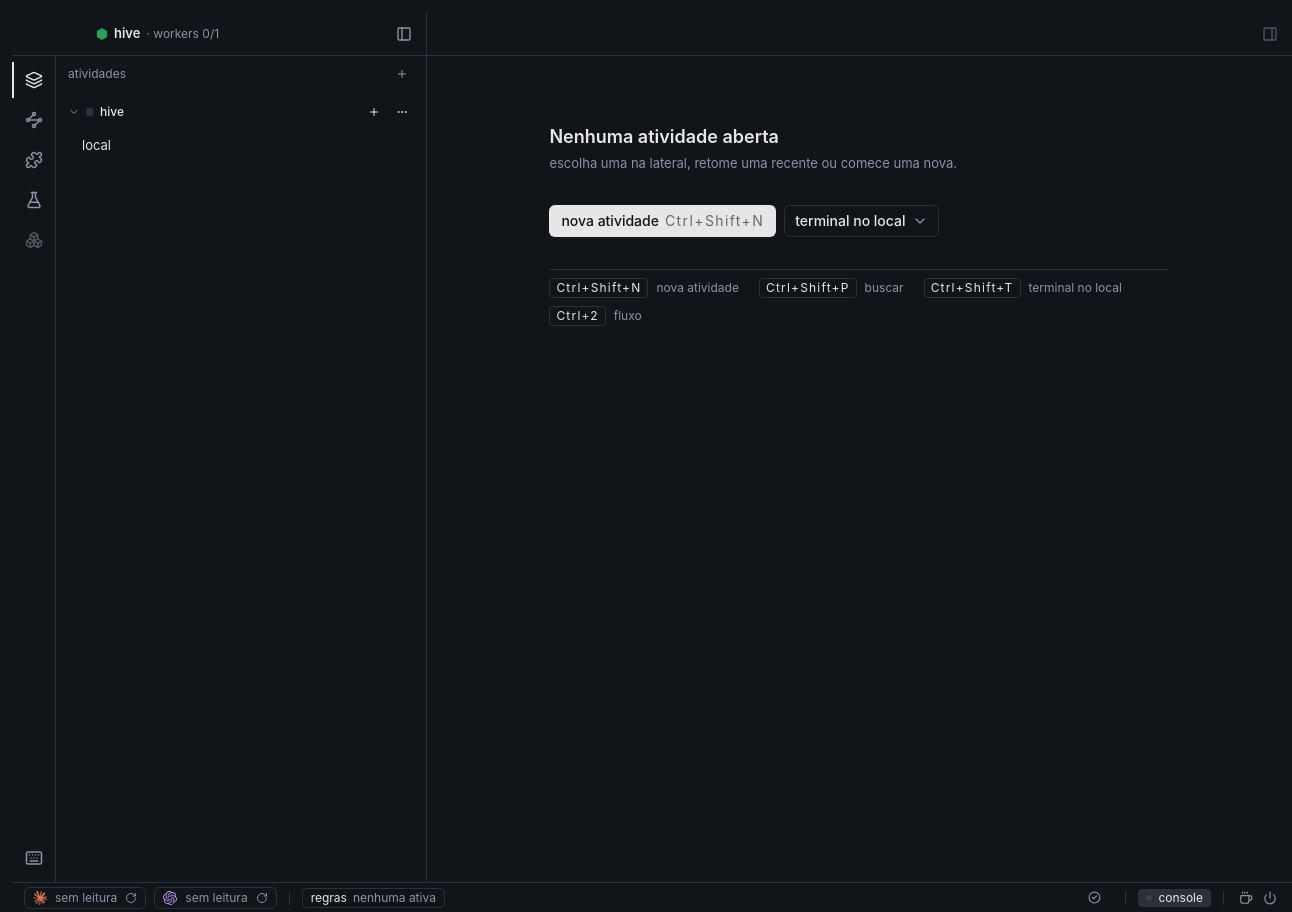
Test: a repository's row opens the issue page under the repository header; its issues tab returns to the list (#757)
Click the button named "fluxo" at (34, 120), box [12,102,56,138]
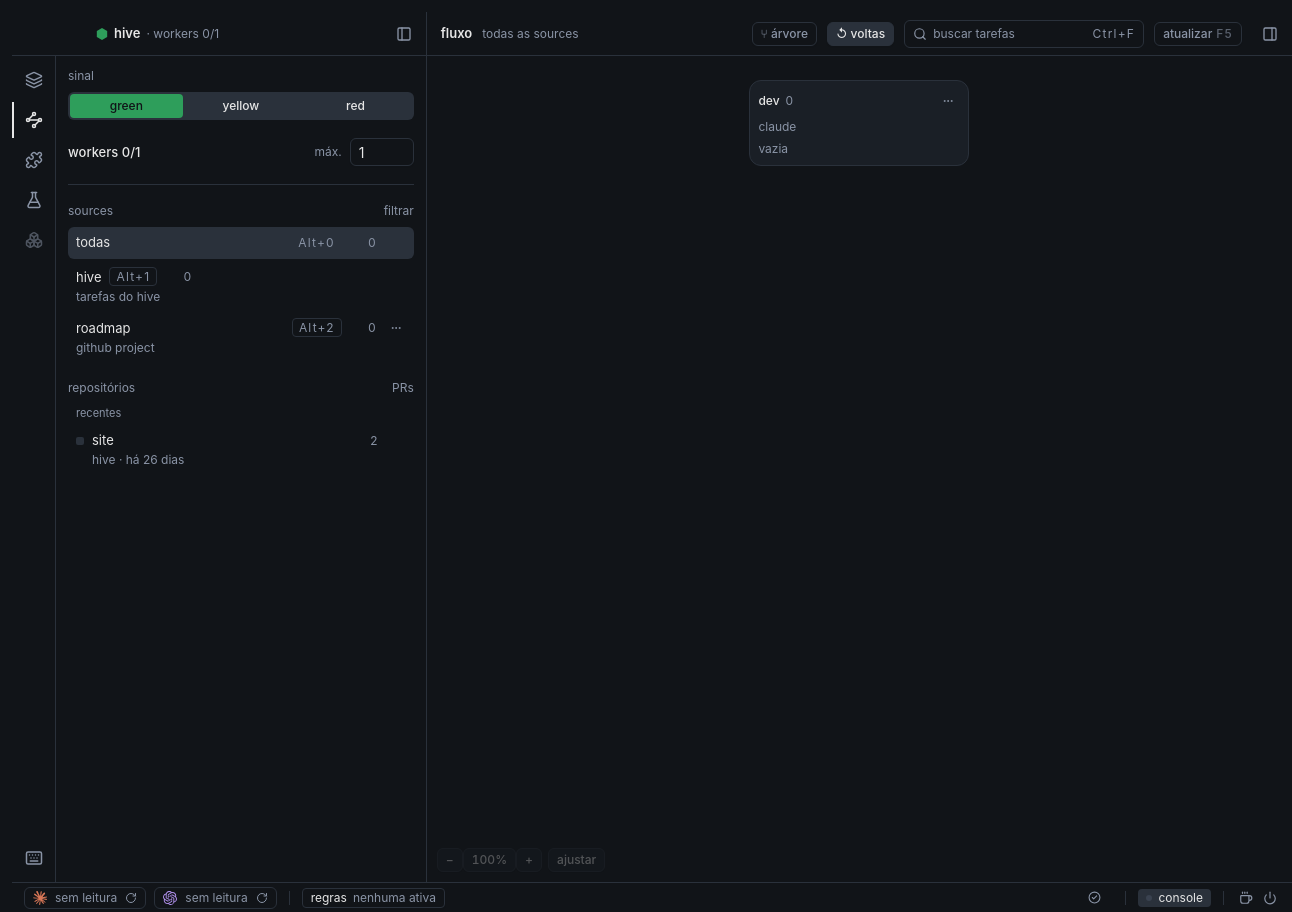
Click the button "site 2 hive · há 26 dias" at (138, 459), box [68,425,414,474]
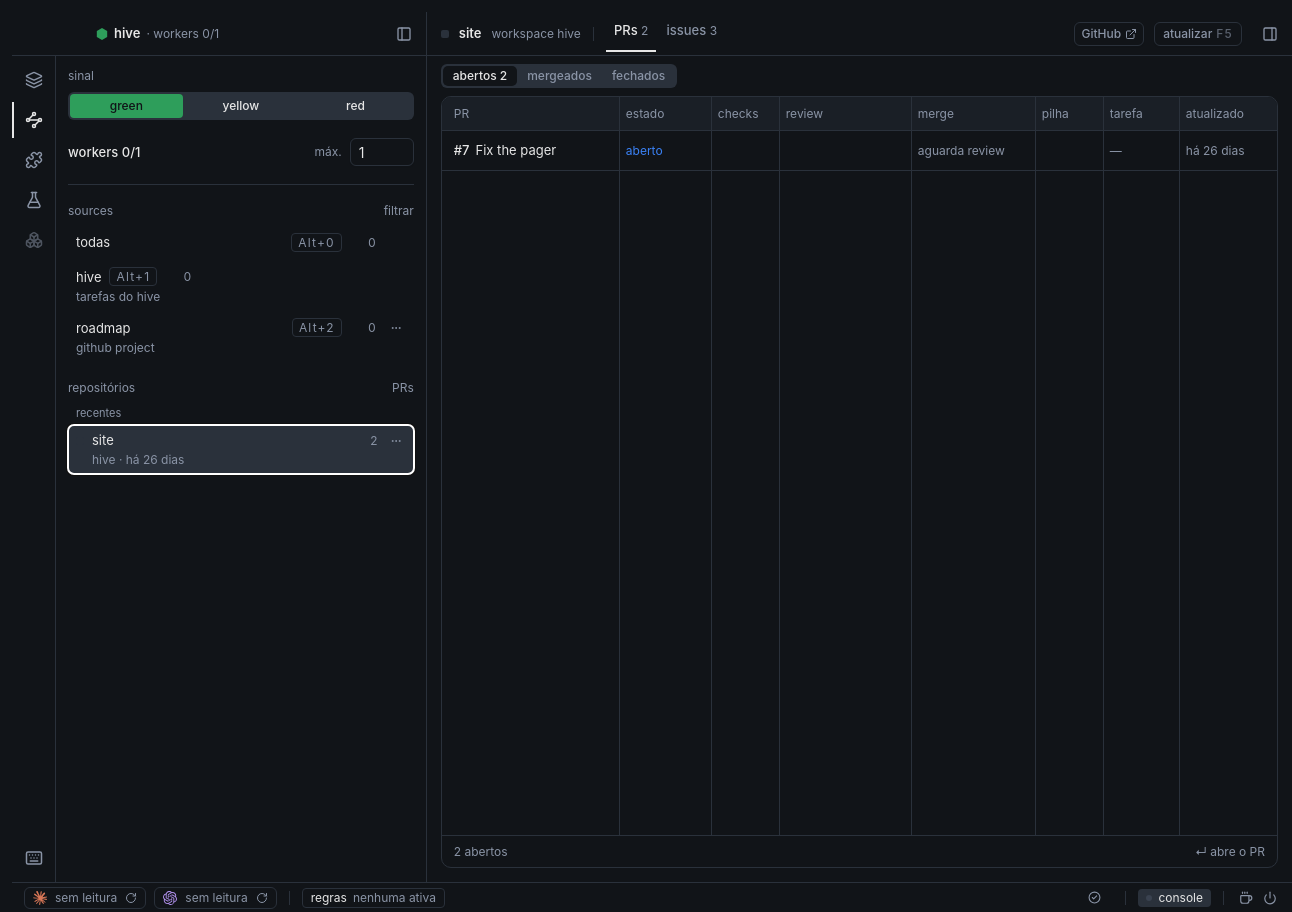
Click the tab "issues 3" at (692, 32), box [658,12,725,52]
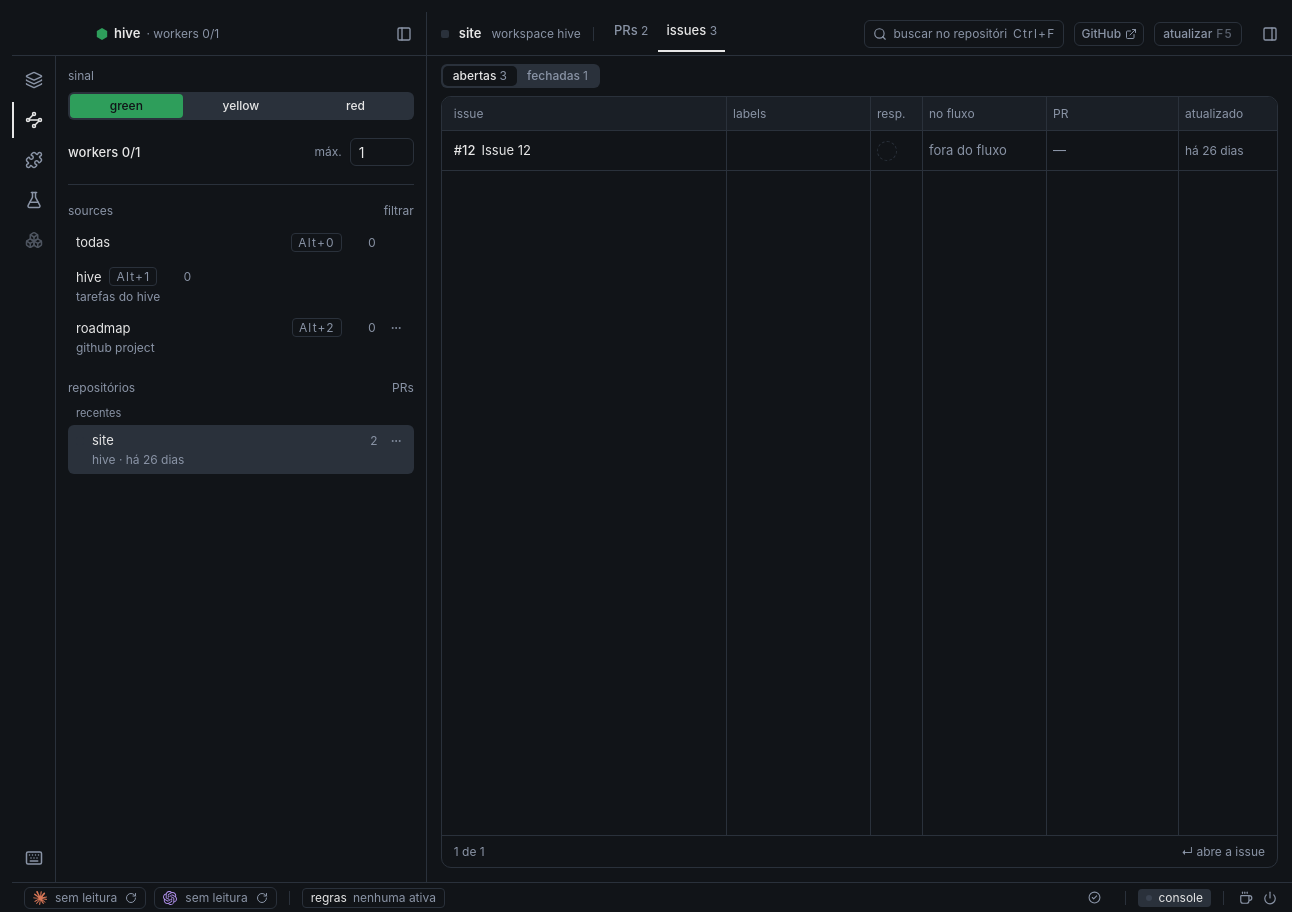
Click the text "Issue 12" at (506, 150), box [482,141,531,160]
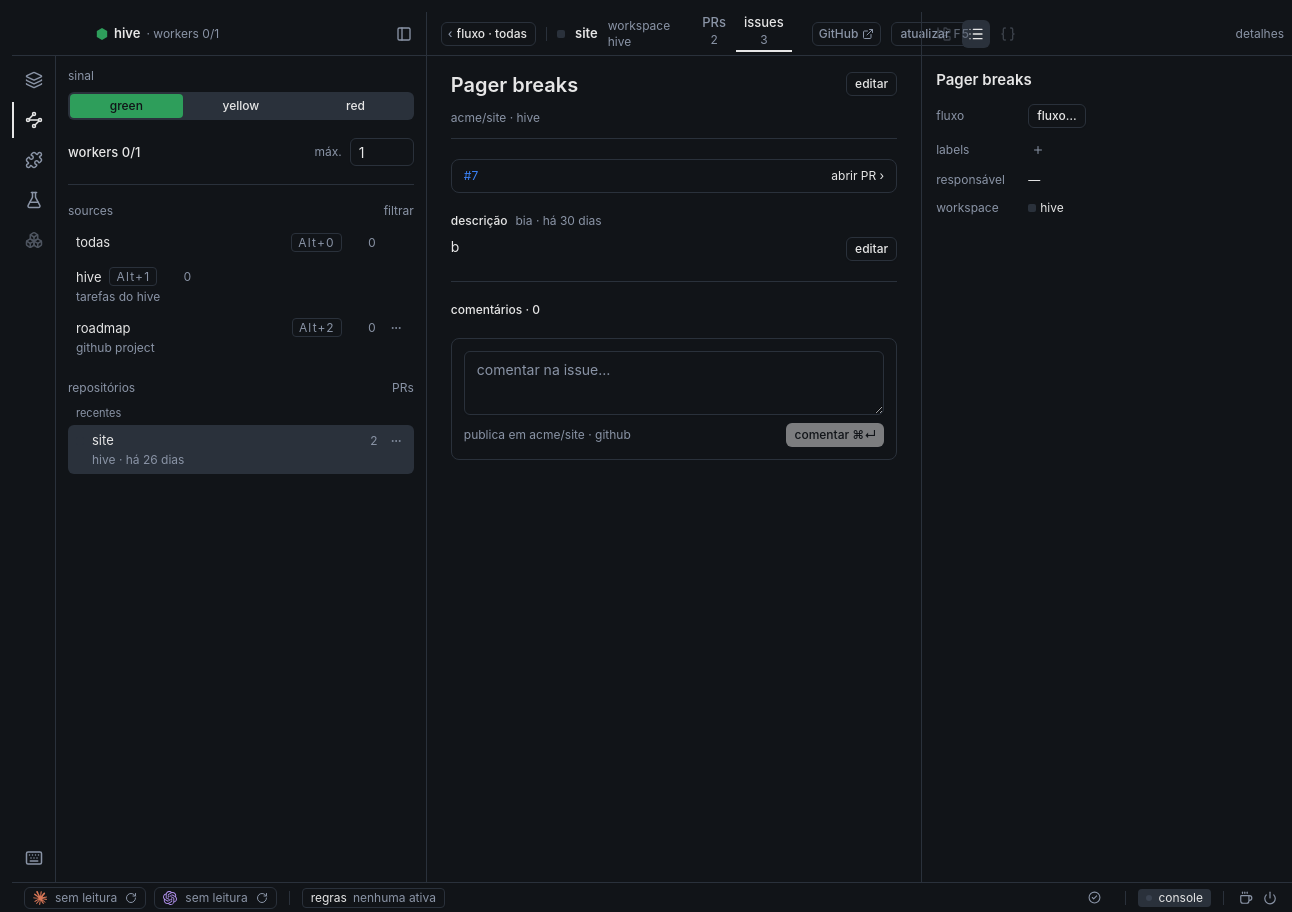
expect the 1st heading "Pager breaks" is shown: met, box [451,73,578,97]
expect the text "acme/site · hive" is shown: met, box [451,110,897,139]
Click the tab "issues 3" at (764, 32), box [736,12,792,52]
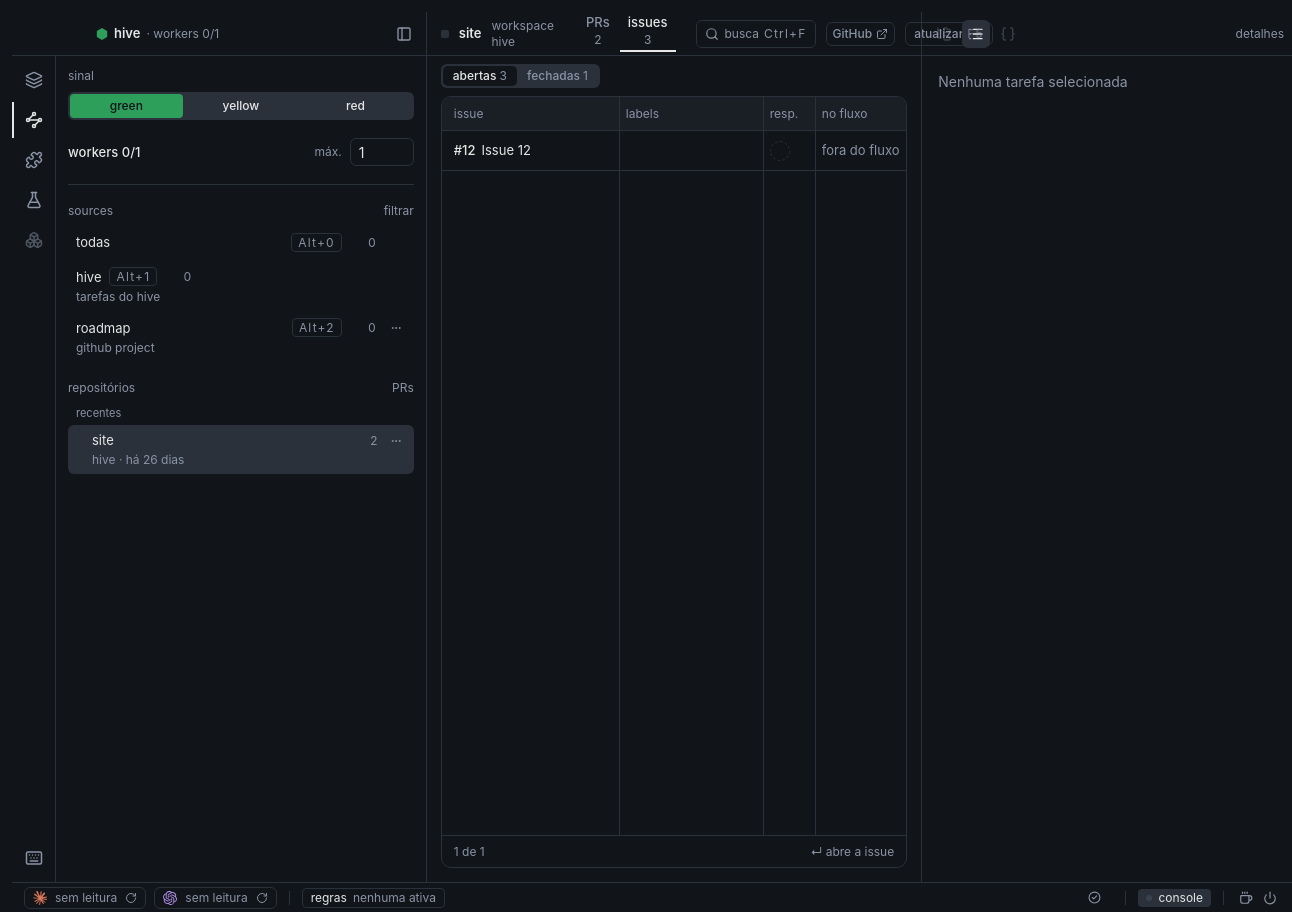
expect the text "Issue 12" is shown: met, box [482,141,531,160]
expect the heading "Pager breaks" is gone: met
